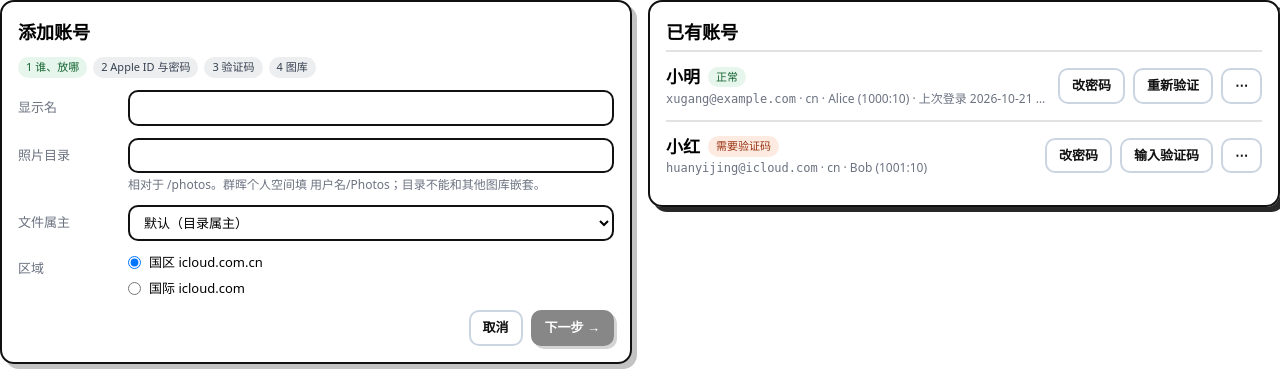
Accounts page › 重新验证 that fails shows the server's detail and opens no code panel
Click the button "重新验证" at (1173, 86), box [1133,68,1213,104]
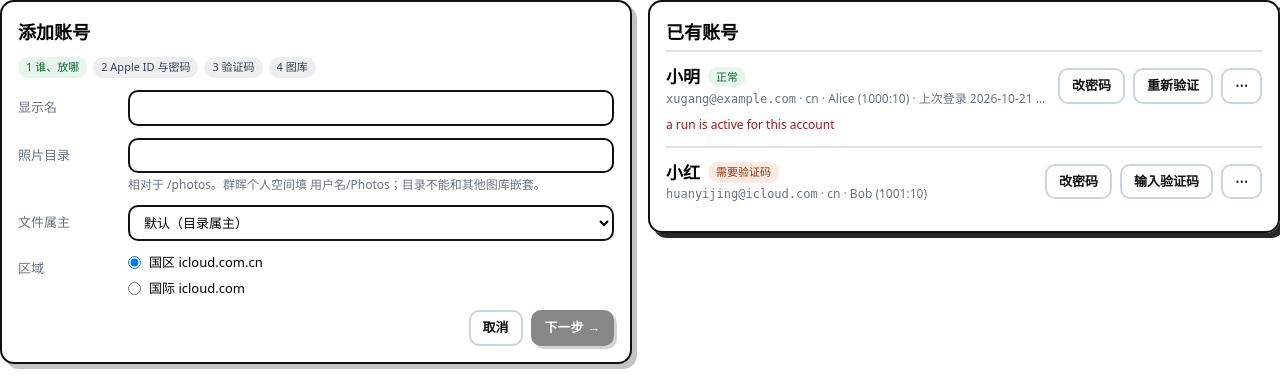
Result: the message reads "a run is active for this account" at [666,116,834,132]
